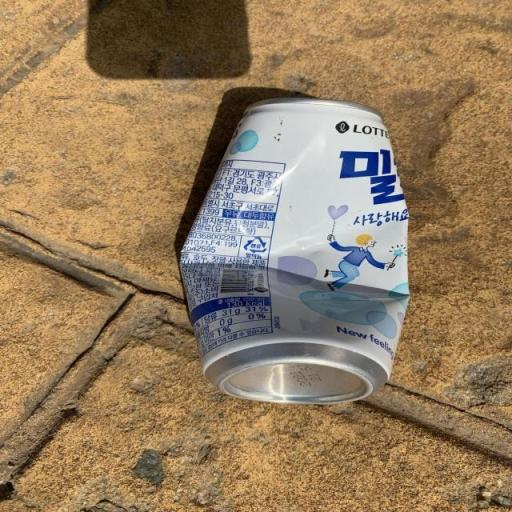metal: (164, 91, 425, 424)
